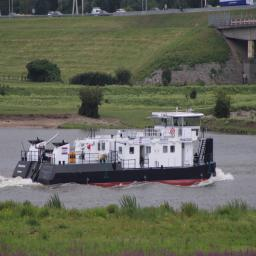tugboat: (12, 107, 220, 192)
